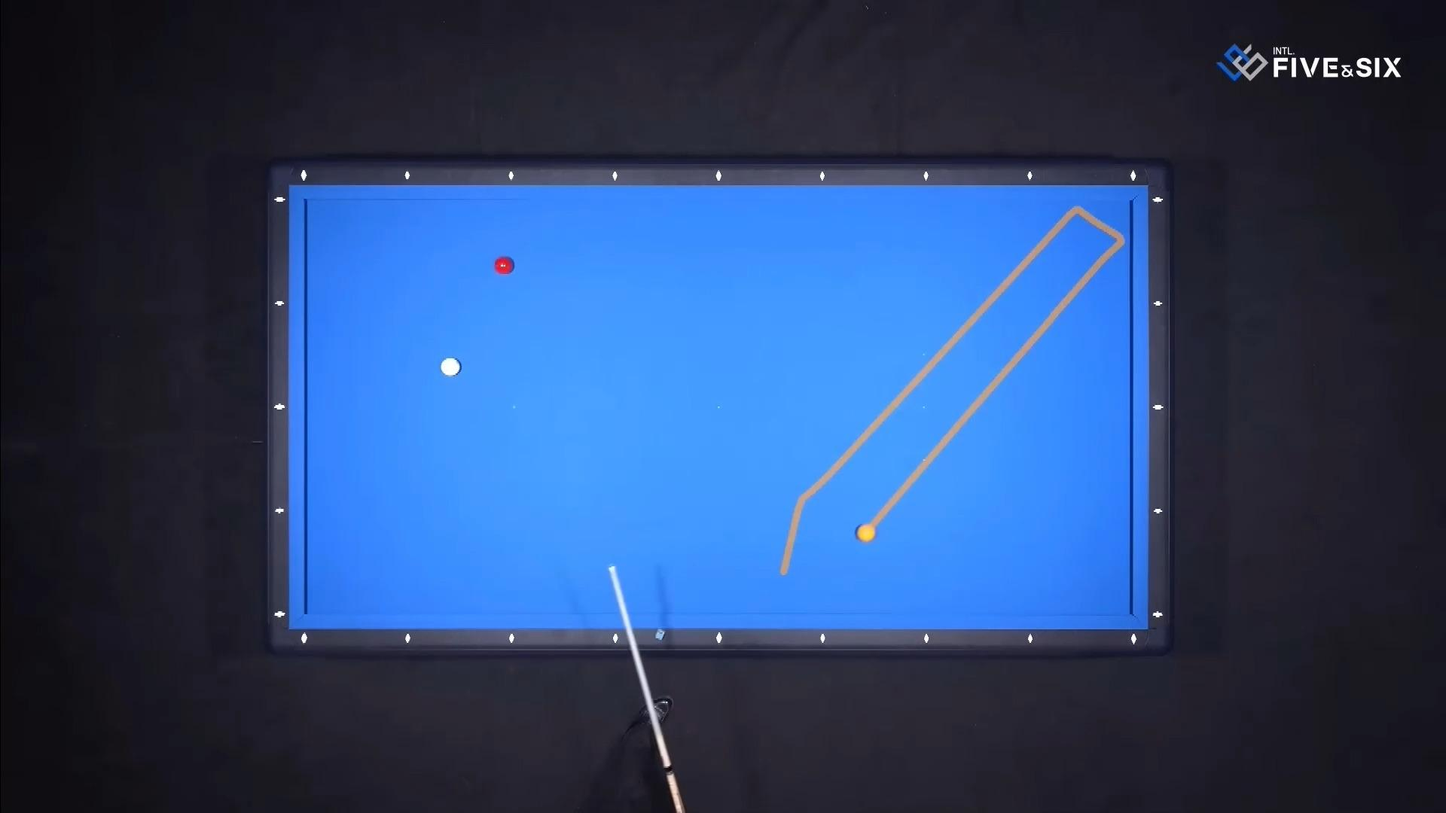Red: (492, 258, 516, 276)
White: (436, 357, 461, 377)
Yellow: (857, 524, 882, 545)
